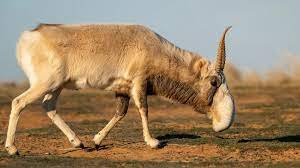saiga: (3, 20, 238, 168)
